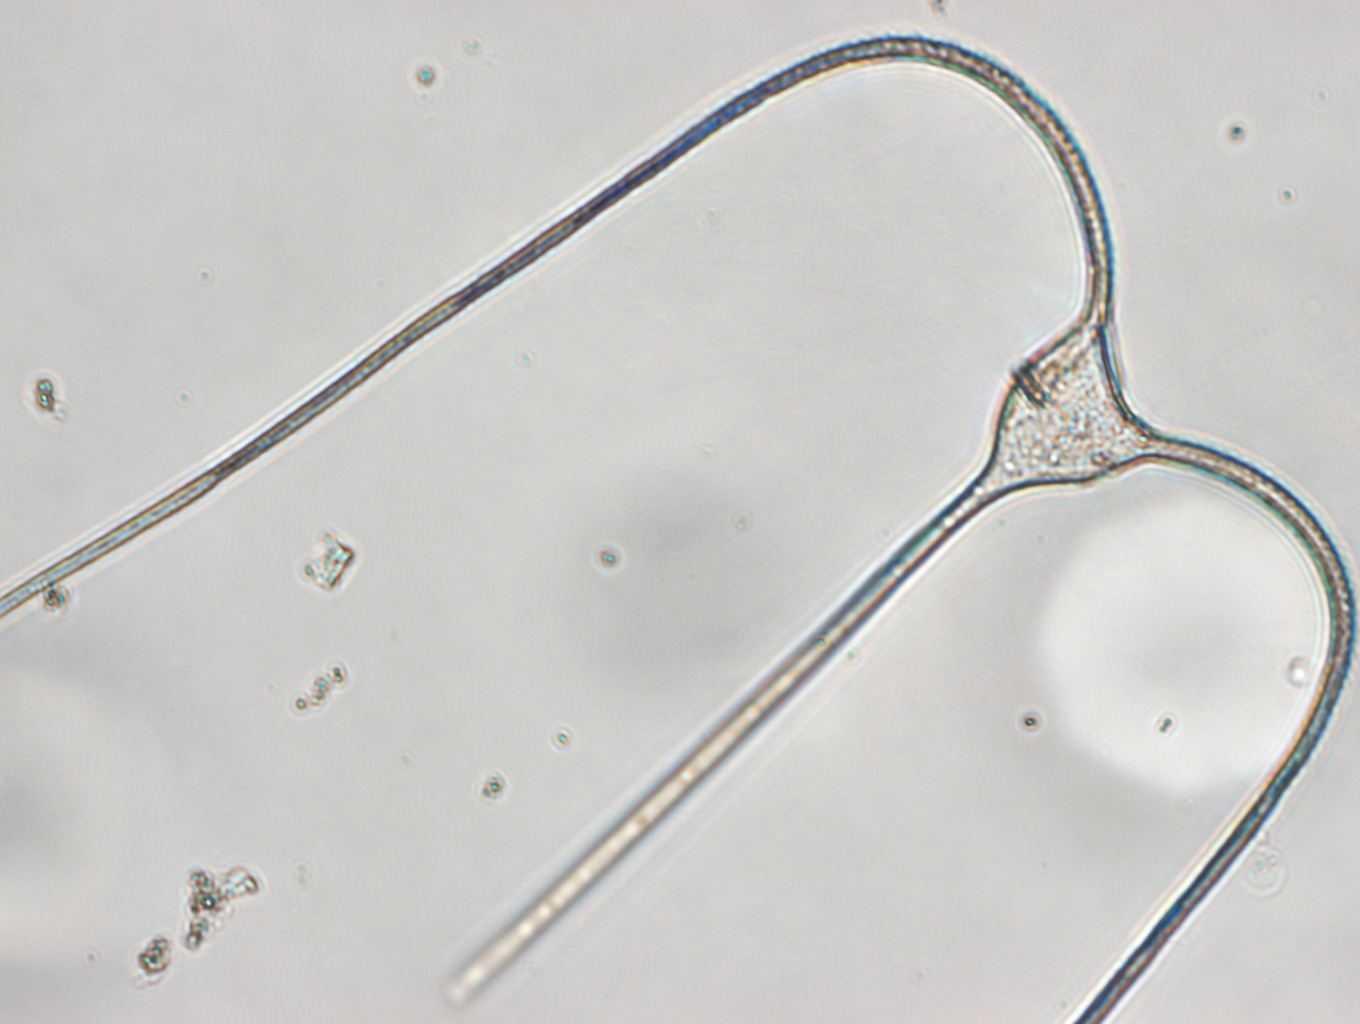ceratium trichoceros: (1, 34, 1356, 1024)
